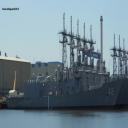Fragata: (6, 13, 126, 110)
